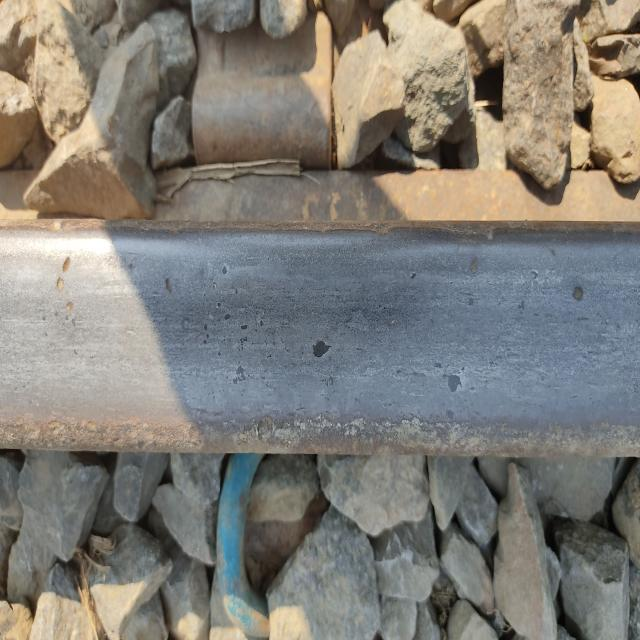head_checks_low: (247, 414, 290, 448), (442, 364, 468, 401), (308, 332, 332, 370), (572, 276, 585, 309)
